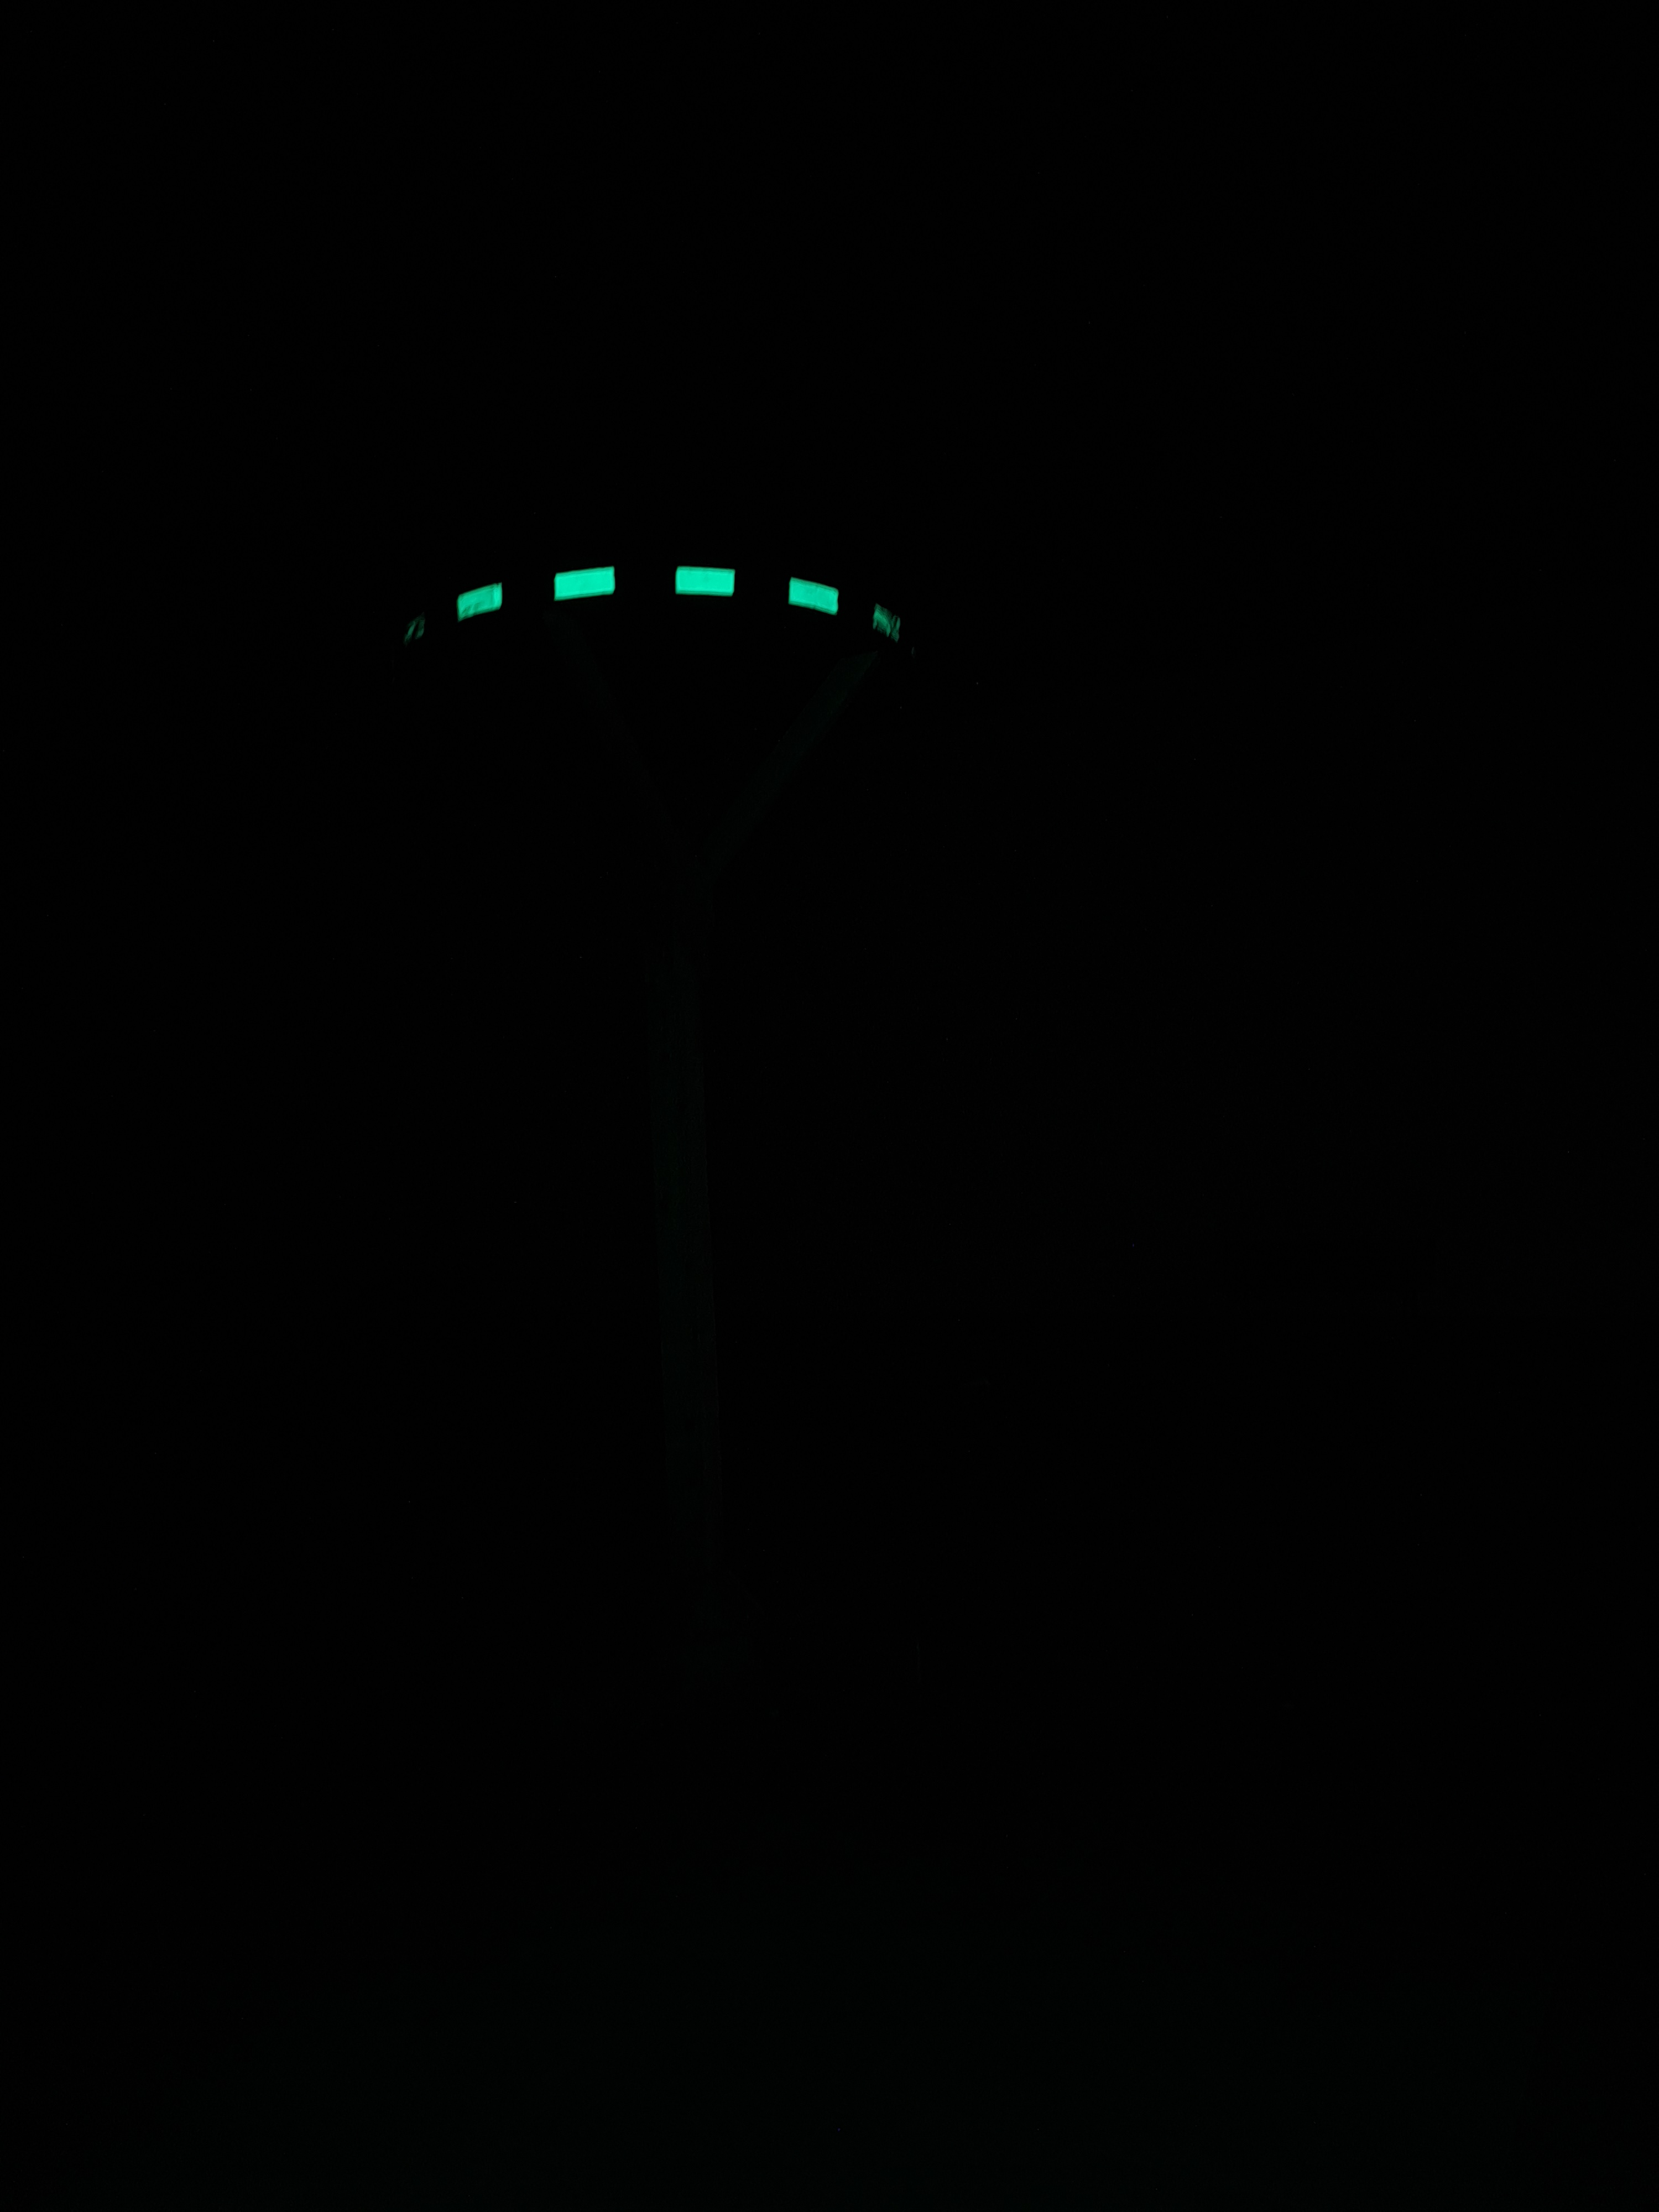hoop: (390, 564, 908, 650)
